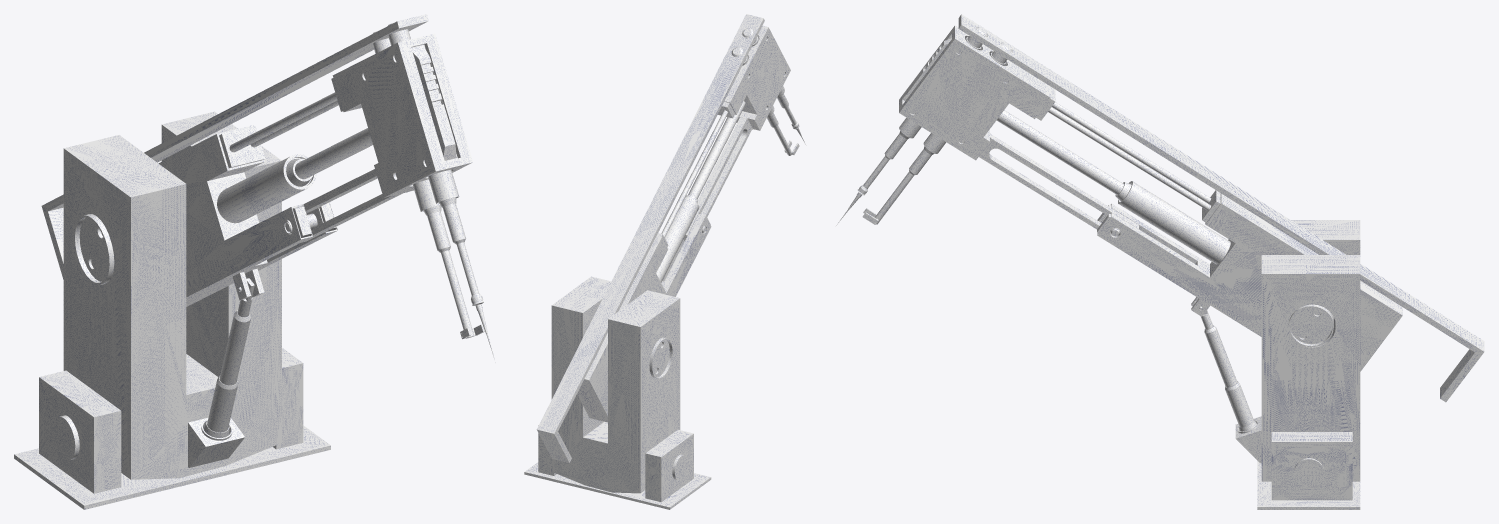
File: Mechanical arm.dae
The picture shows the model from 3 angles, left to right: view 1: azimuth 30°, elevation 25°; view 2: azimuth 150°, elevation 25°; view 3: azimuth 270°, elevation 25°; orthographic projection. The views are drawn at different scales.
Parts seen in each view (by area): view 1: SketchUp (×23); view 2: SketchUp (×14); view 3: SketchUp (×14).
Boxes of the visible parts, x1,y1,x2,y2 form: SketchUp (×23): [14, 14, 482, 509]; SketchUp (×14): [524, 14, 790, 509]; SketchUp (×14): [899, 14, 1484, 509].
Size of the model in its own units: 76 by 235 by 179.
